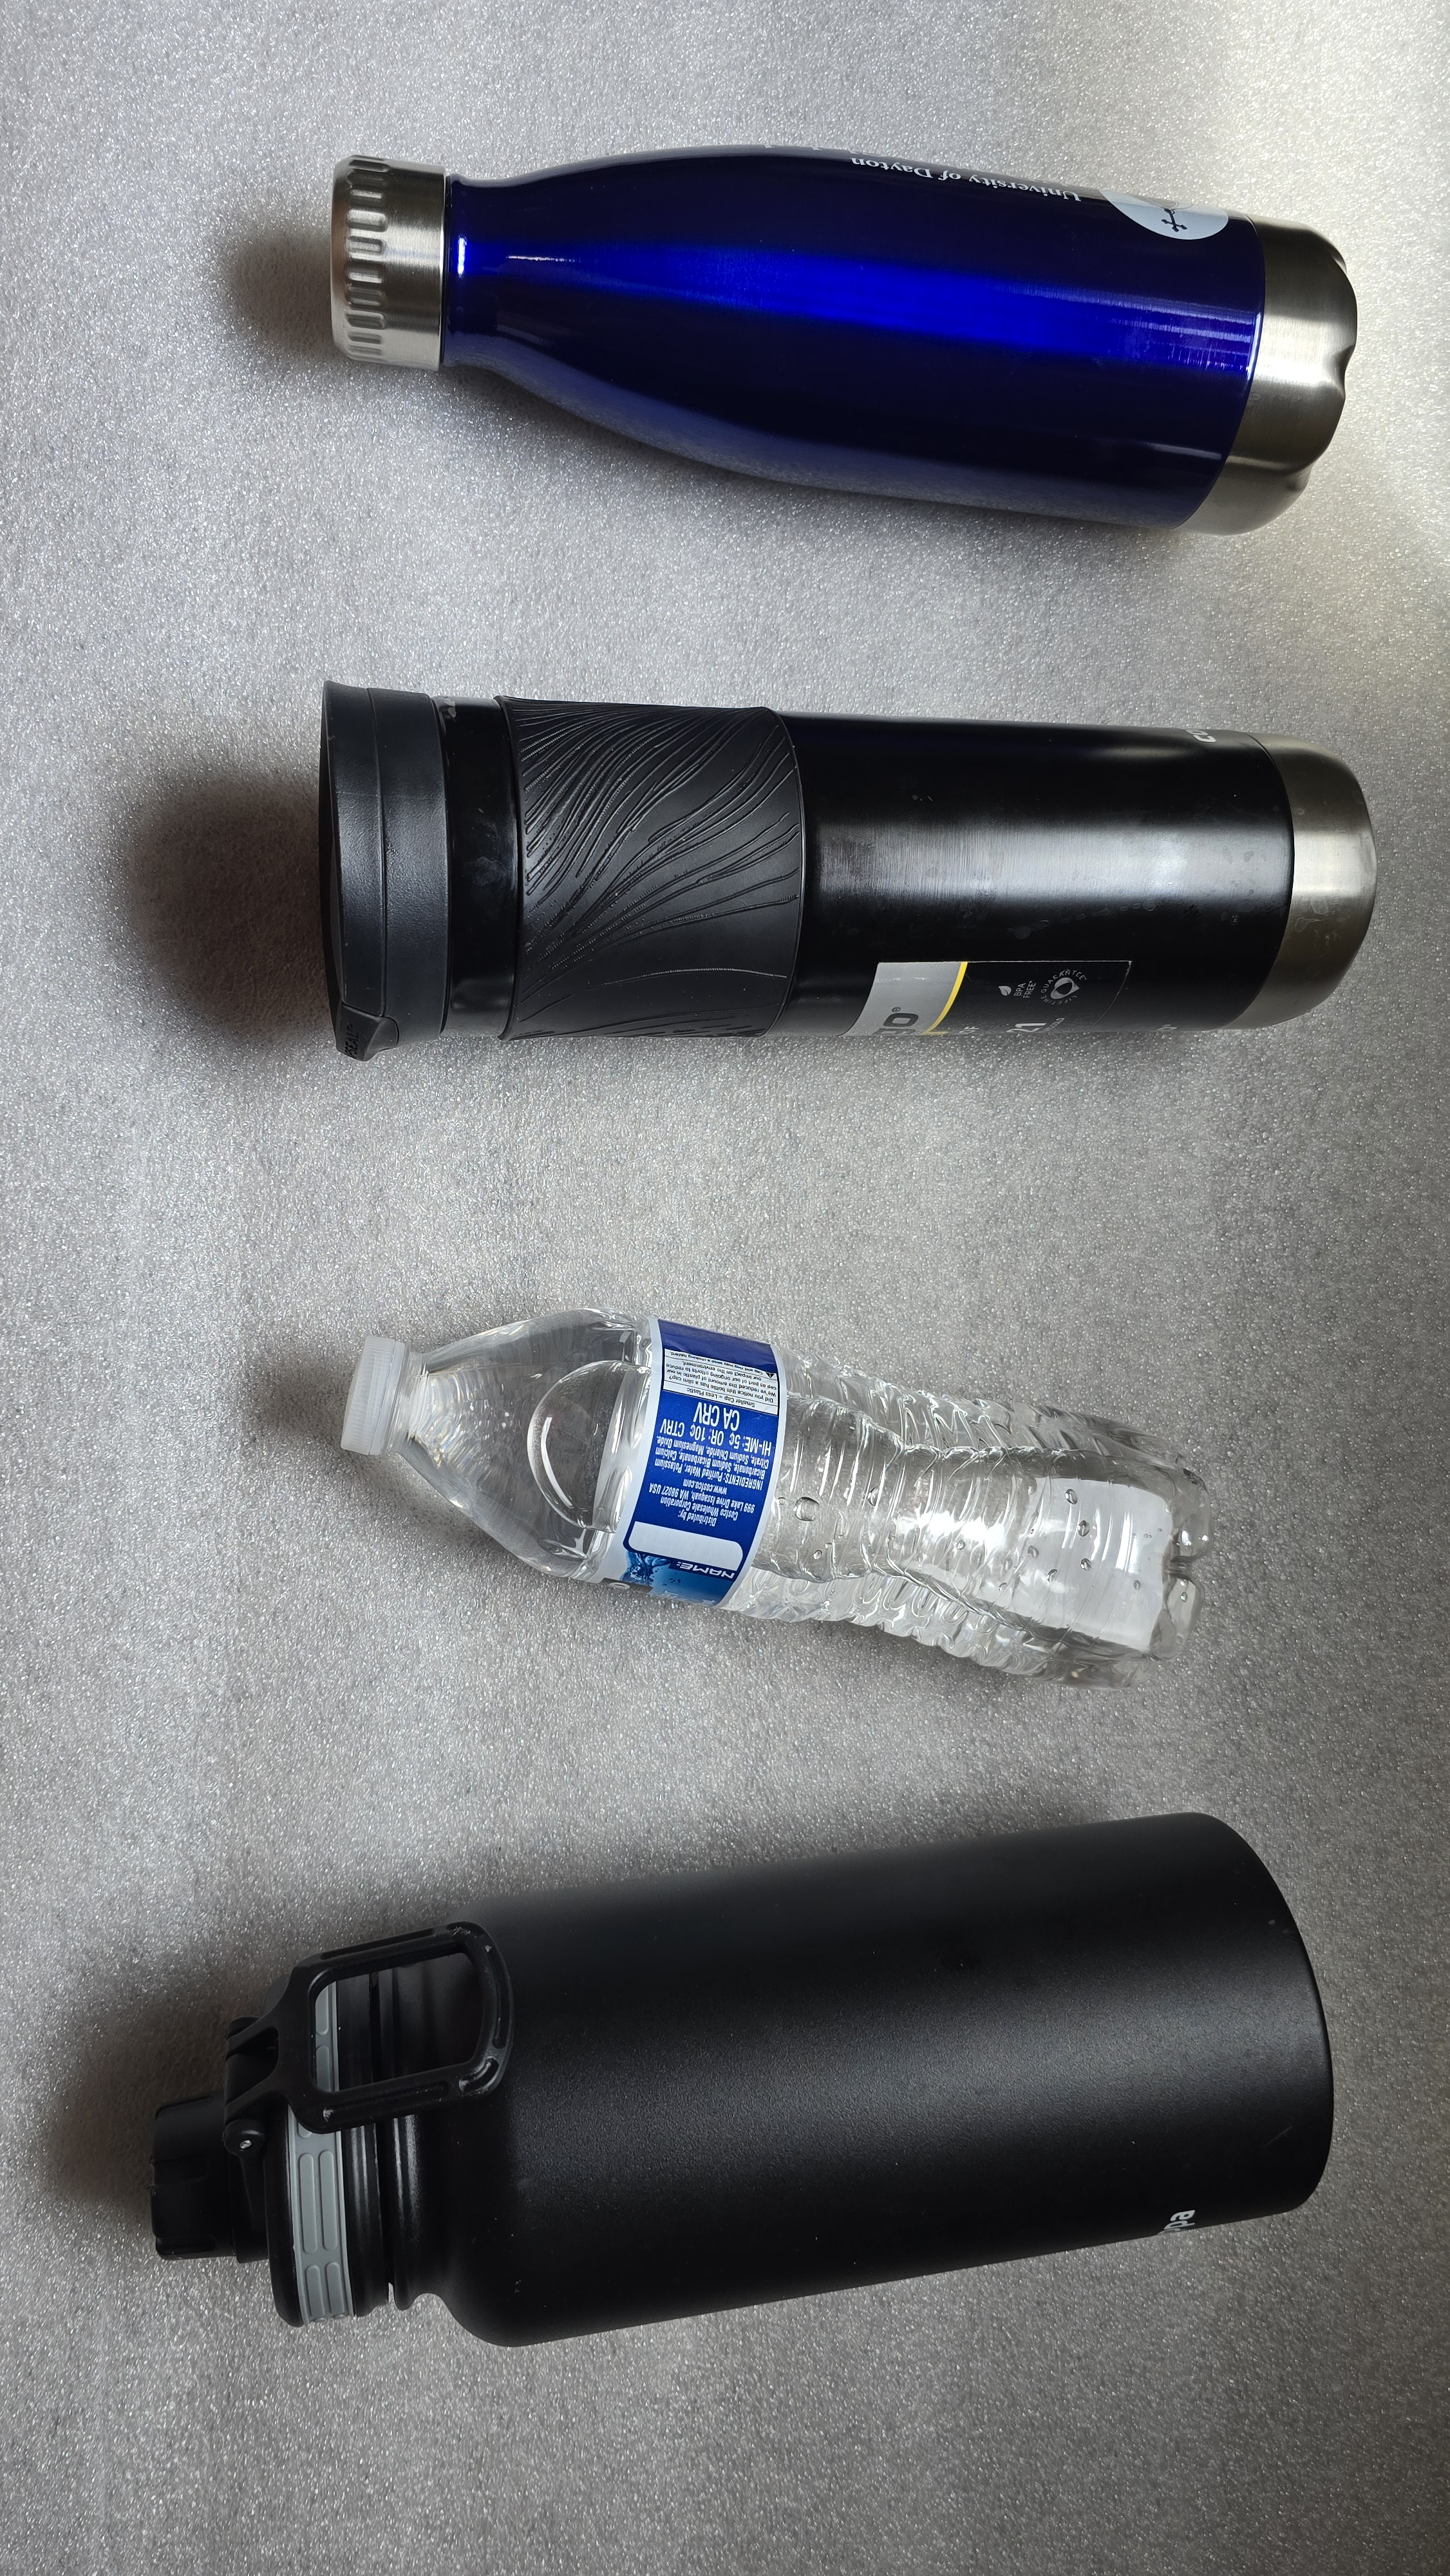bottle: (122, 1783, 1369, 2374), (309, 131, 1404, 596), (283, 649, 1404, 1081), (297, 1290, 1284, 1704)
